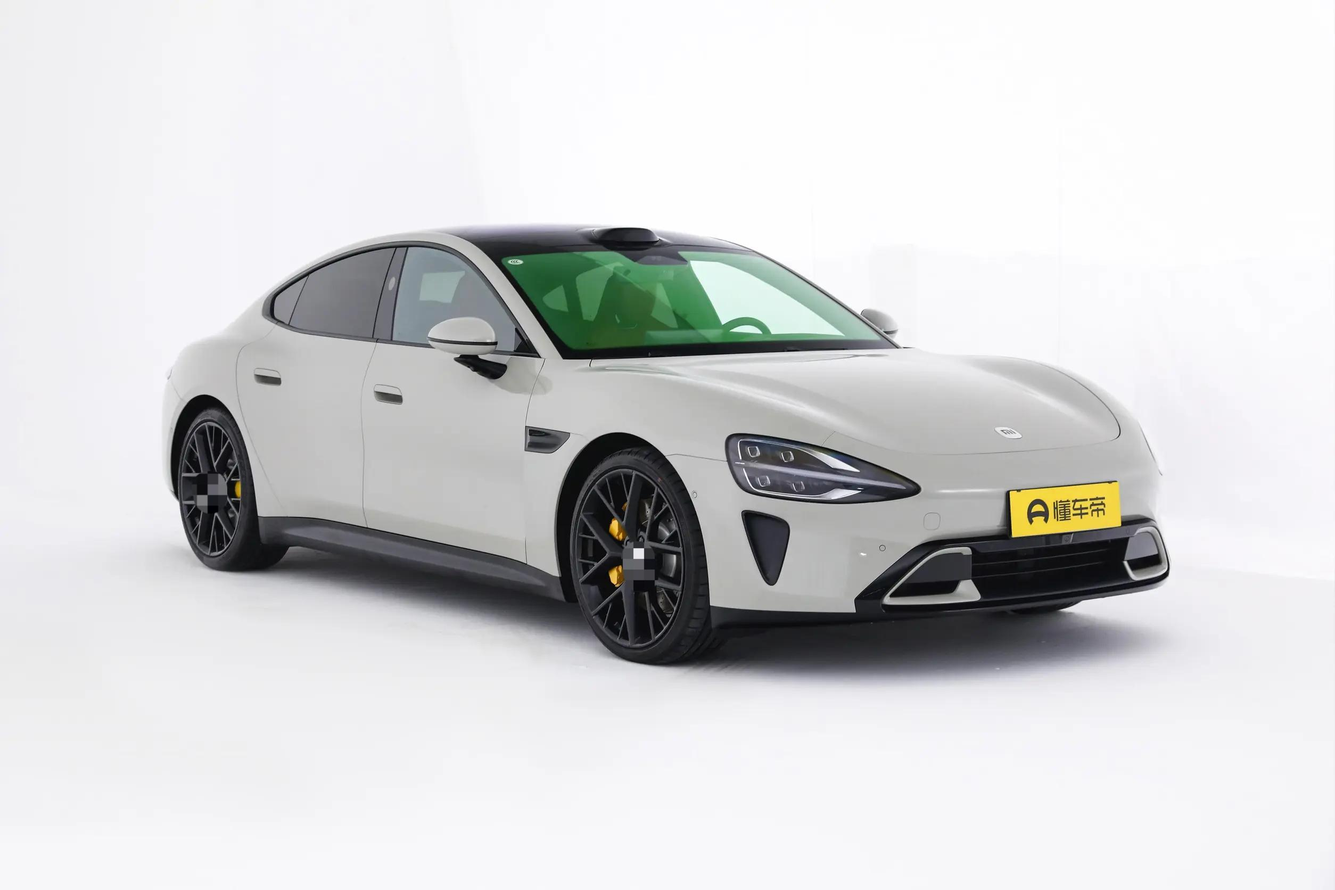XIAOMI: (994, 426, 1022, 439)
